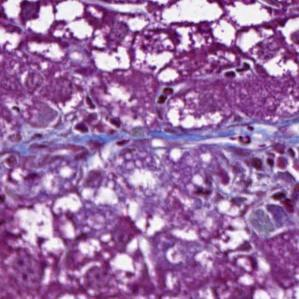inflammation: (71, 107, 125, 139), (151, 78, 177, 110)
